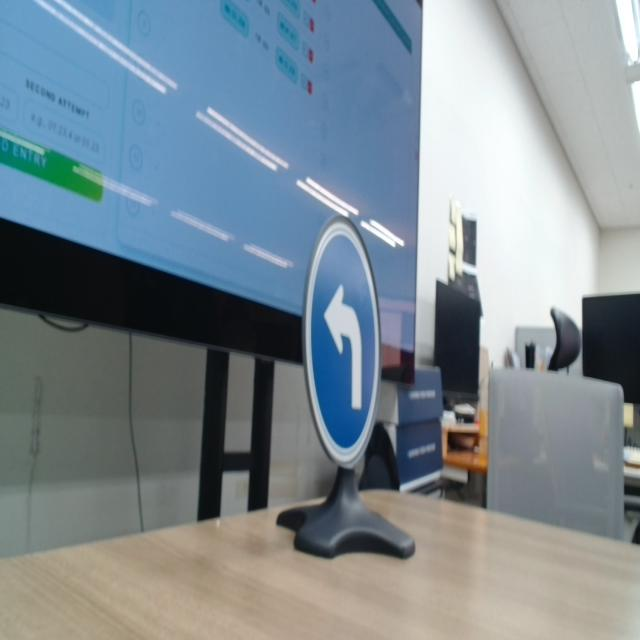left_direction: (304, 188, 402, 470)
